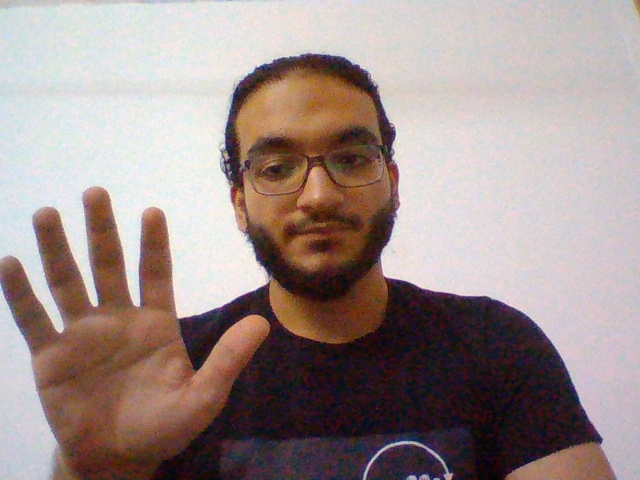Hello: (1, 181, 283, 471)
